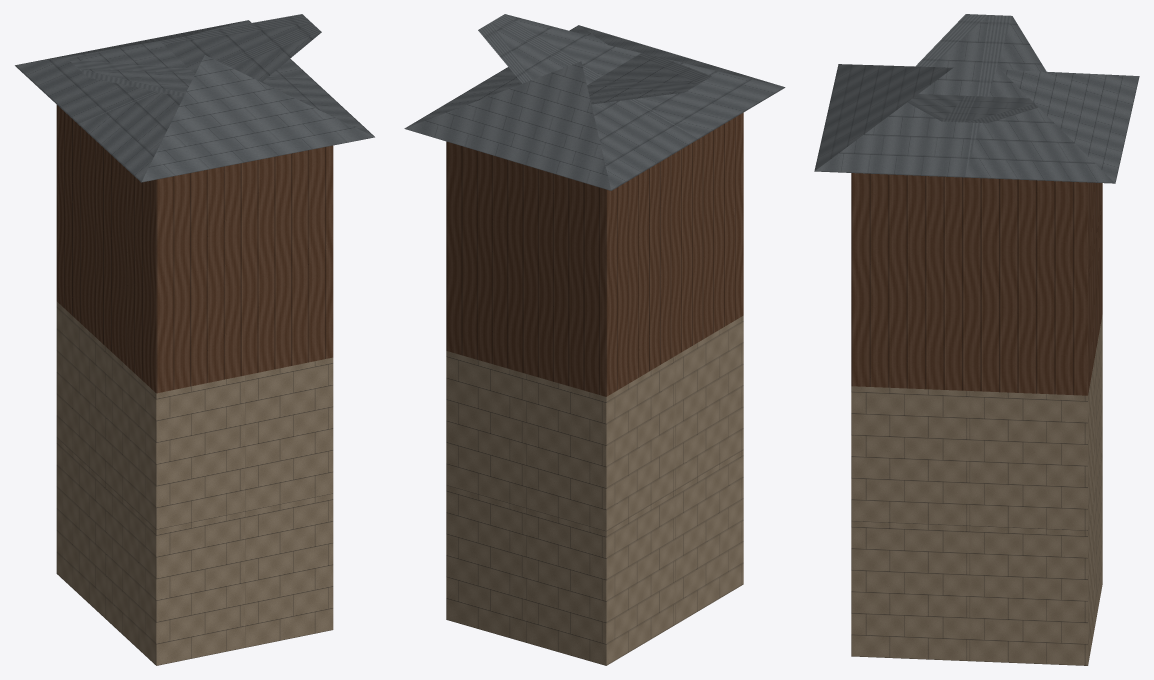
Rendered from bld_c5_9_476.gltf.
3 renders of one model, left to right at view 1: azimuth 30°, elevation 25°; view 2: azimuth 150°, elevation 25°; view 3: azimuth 270°, elevation 25°, orthographic.
Visible parts, largest first — view 1: bld_c5_9_476; view 2: bld_c5_9_476; view 3: bld_c5_9_476.
Part boxes in pixels (x1,y1,x2,y2): bld_c5_9_476: (15, 14, 374, 665); bld_c5_9_476: (404, 14, 785, 665); bld_c5_9_476: (814, 14, 1139, 665).
Bounding box in the file's own units: 4.65 × 10 × 5.35.
3 materials, 3 textured.
